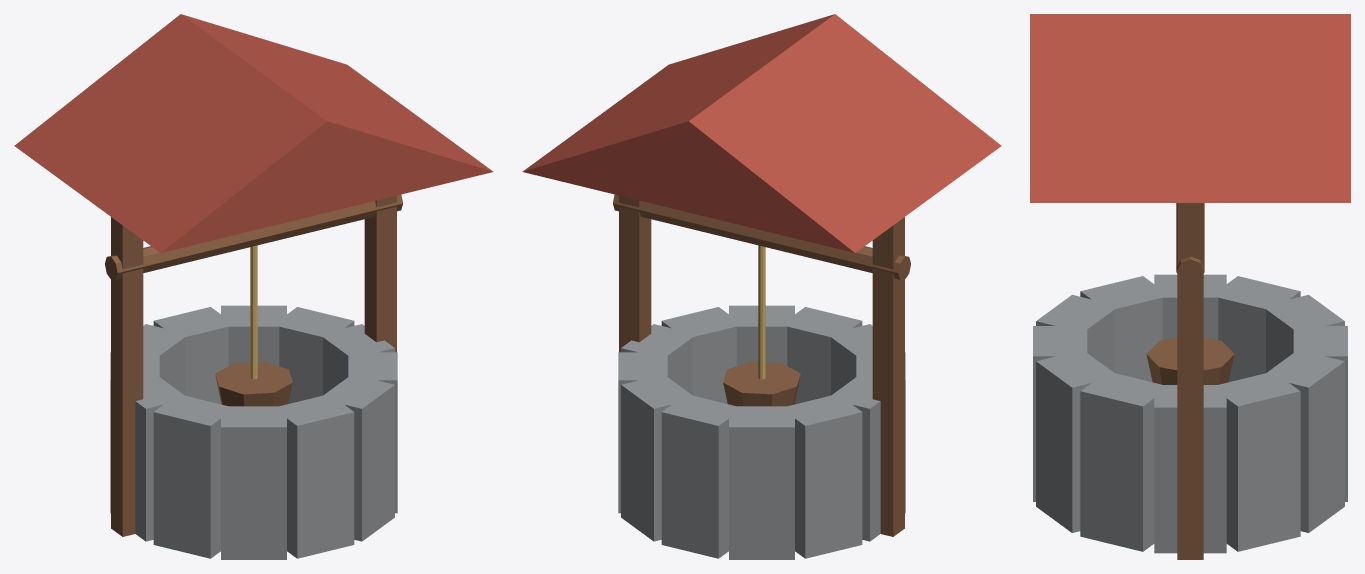
Rendered from well.glb.
3 views of the same model, side by side, from view 1: azimuth 30°, elevation 25°; view 2: azimuth 150°, elevation 25°; view 3: azimuth 270°, elevation 25° (orthographic). The views are drawn at different scales.
Parts seen in each view (by area): view 1: gable_roof, well_block.009, well_block.007, well_block.008, post, well_block.010, spindle, post.001, well_block.003, well_block.001, well_block.006, well_block.002 (+5 smaller); view 2: gable_roof, well_block.003, well_block.005, well_block.004, post, well_block.002, spindle, post.001, well_block.009, well_block.011, well_block.006, well_block.010 (+5 smaller); view 3: gable_roof, well_block.001, well_block.011, post.001, well_block.002, well_block.010, well_block, well_block.007, well_block.005, well_block.008, well_block.004, bucket (+4 smaller).
Part boxes in pixels (<box>): gable_roof: <box>14,14,493,252</box>; well_block.009: <box>280,394,354,558</box>; well_block.007: <box>153,395,227,558</box>; well_block.008: <box>221,406,286,559</box>; post: <box>111,217,143,536</box>; well_block.010: <box>323,374,394,541</box>; spindle: <box>105,194,402,279</box>; post.001: <box>364,195,396,352</box>; well_block.003: <box>153,307,228,404</box>; well_block.001: <box>278,307,354,403</box>; well_block.006: <box>135,374,188,541</box>; well_block.002: <box>221,305,286,366</box>; gable_roof: <box>522,14,1001,252</box>; well_block.003: <box>661,394,735,558</box>; well_block.005: <box>788,395,862,558</box>; well_block.004: <box>729,406,794,559</box>; post: <box>872,217,904,536</box>; well_block.002: <box>621,374,692,541</box>; spindle: <box>613,194,910,279</box>; post.001: <box>619,195,651,352</box>; well_block.009: <box>783,307,862,404</box>; well_block.011: <box>661,307,736,403</box>; well_block.006: <box>827,374,880,541</box>; well_block.010: <box>729,305,794,366</box>; gable_roof: <box>1030,14,1350,202</box>; well_block.001: <box>1211,371,1300,551</box>; well_block.011: <box>1080,371,1169,551</box>; post.001: <box>1177,203,1203,559</box>; well_block.002: <box>1264,353,1344,532</box>; well_block.010: <box>1036,353,1113,532</box>; well_block: <box>1154,385,1226,553</box>; well_block.007: <box>1080,276,1169,382</box>; well_block.005: <box>1211,276,1300,382</box>; well_block.008: <box>1036,294,1118,372</box>; well_block.004: <box>1265,294,1344,372</box>; bucket: <box>1146,337,1234,384</box>.
Bounding box in the file's own units: 2.1 × 2.6 × 1.6.
